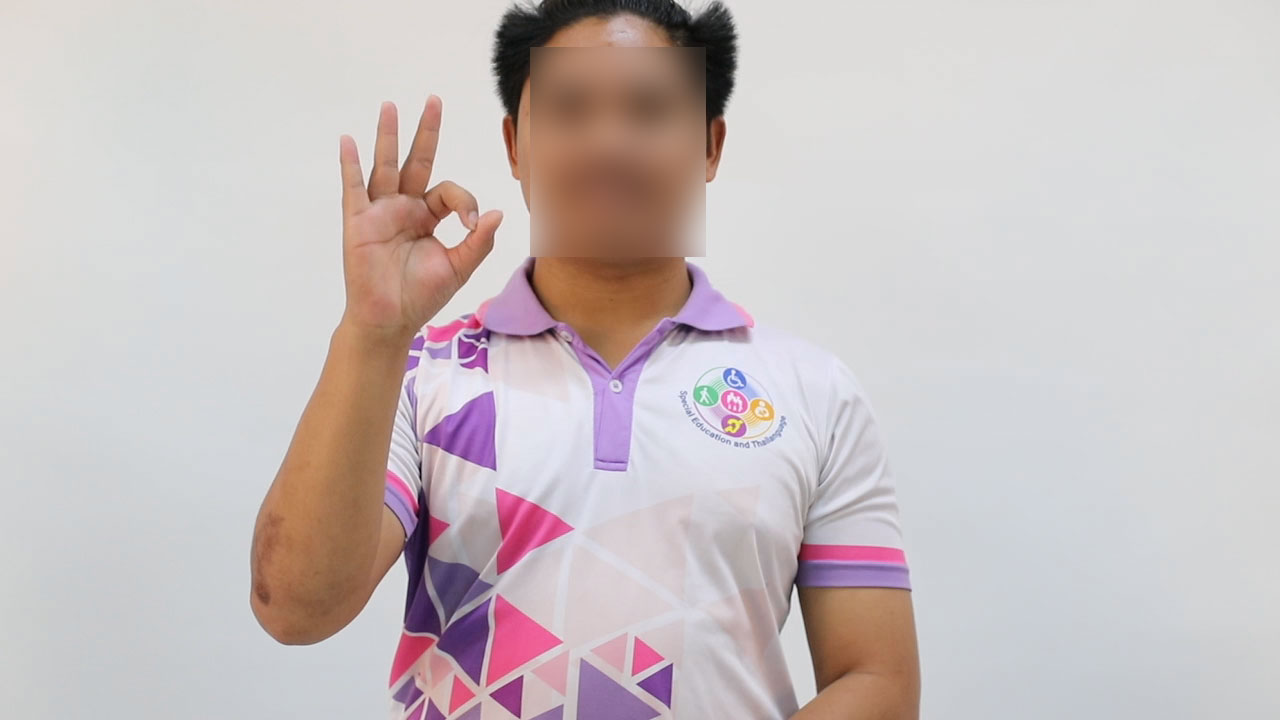for: (310, 84, 509, 358)
